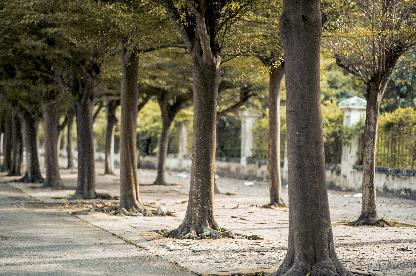tree: (270, 1, 349, 276), (168, 0, 236, 243), (350, 2, 415, 232), (95, 0, 150, 221), (66, 2, 107, 202)
